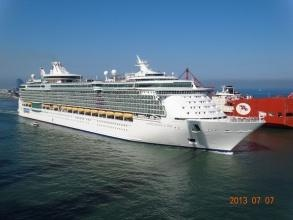youlun: (13, 59, 262, 153)
